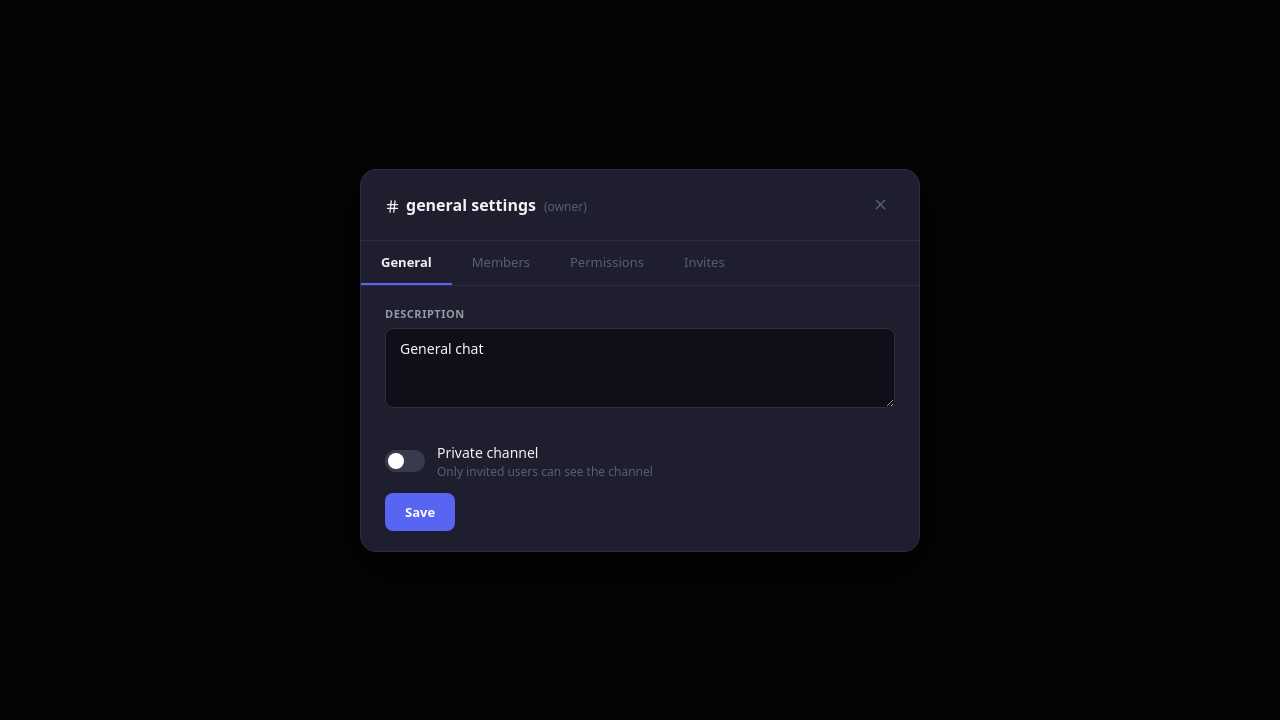
Test: save changes › shows 'Saved!' message after successful save
Click the button "Save". click: [420, 512]
box: [385,492,455,530]
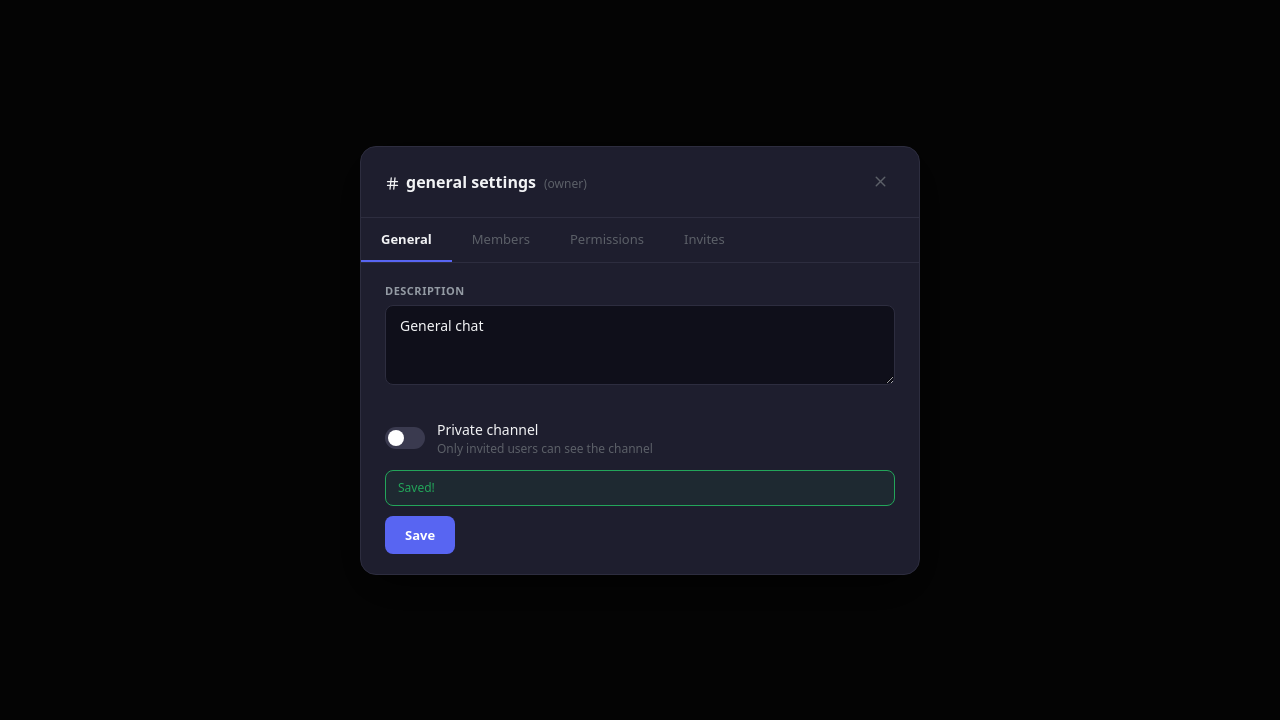
Now the text "Saved!" is shown, box [385,470,895,506]
